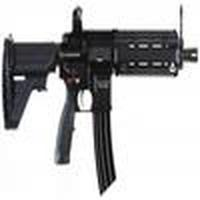gun: (5, 4, 200, 164)
